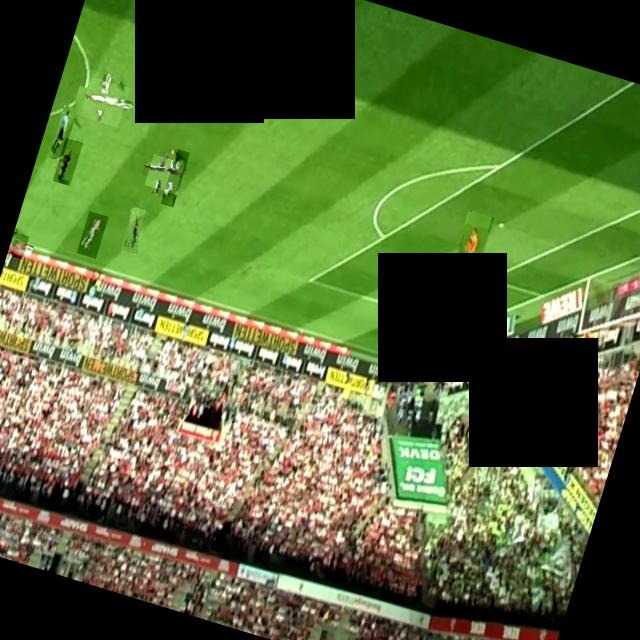goalkeeper: (447, 209, 493, 287)
referee: (47, 104, 76, 160)
soccer-player: (181, 42, 224, 117), (78, 75, 128, 126), (160, 147, 188, 205), (143, 152, 183, 192), (76, 210, 108, 258), (52, 136, 82, 184), (119, 205, 148, 254), (6, 230, 28, 258)
